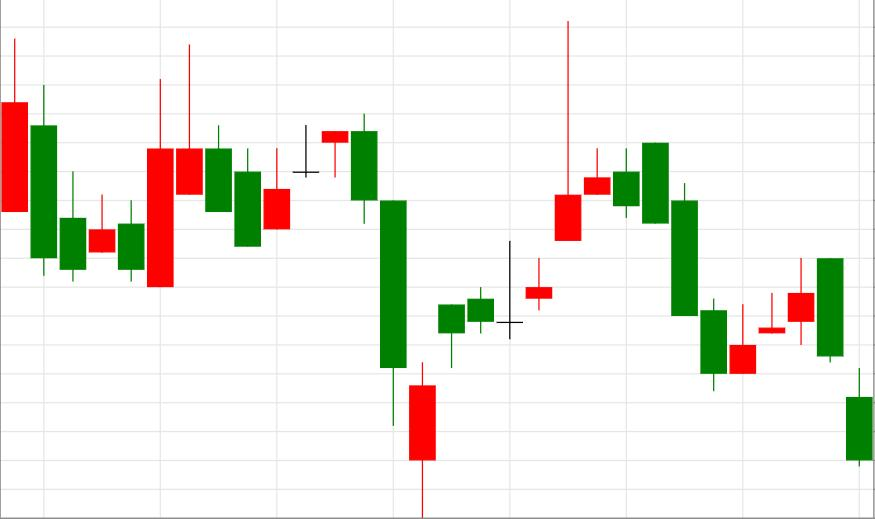shooting_star_fall: (408, 22, 582, 518)
